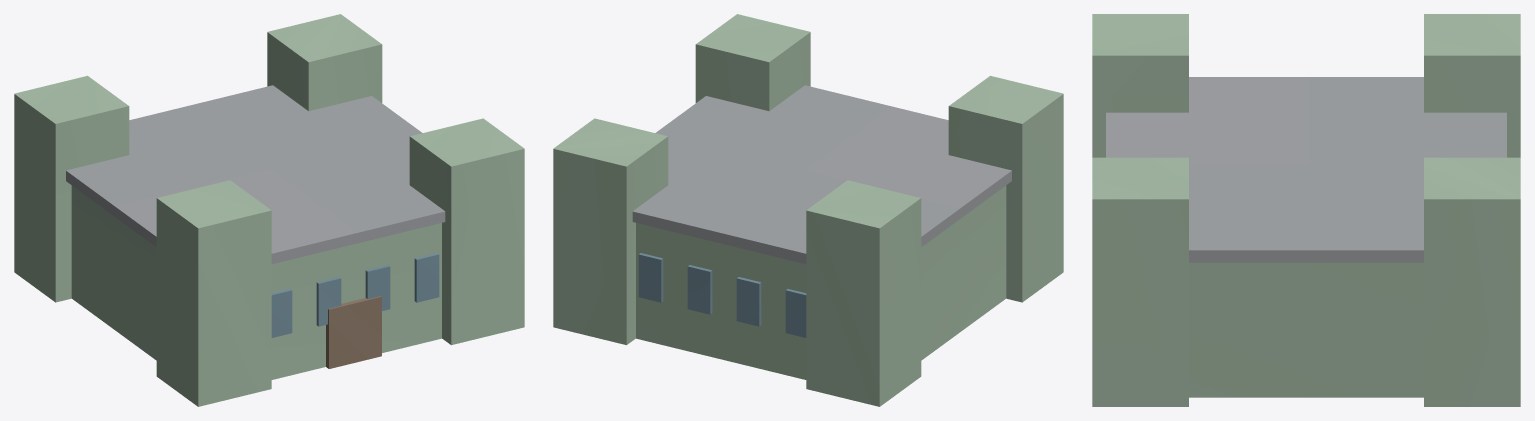
File: fort-04.glb
The picture shows the model from 3 angles, left to right: view 1: azimuth 30°, elevation 25°; view 2: azimuth 150°, elevation 25°; view 3: azimuth 270°, elevation 25°; orthographic projection. The views are drawn at different scales.
Parts seen in each view (by area): view 1: world; view 2: world; view 3: world.
Part boxes in pixels (left/top/right/bottom): world: left=14, top=14, right=524, bottom=406; world: left=553, top=14, right=1063, bottom=406; world: left=1092, top=14, right=1520, bottom=406.
Size of the model in its own units: 2.28 by 1.19 by 2.22.
